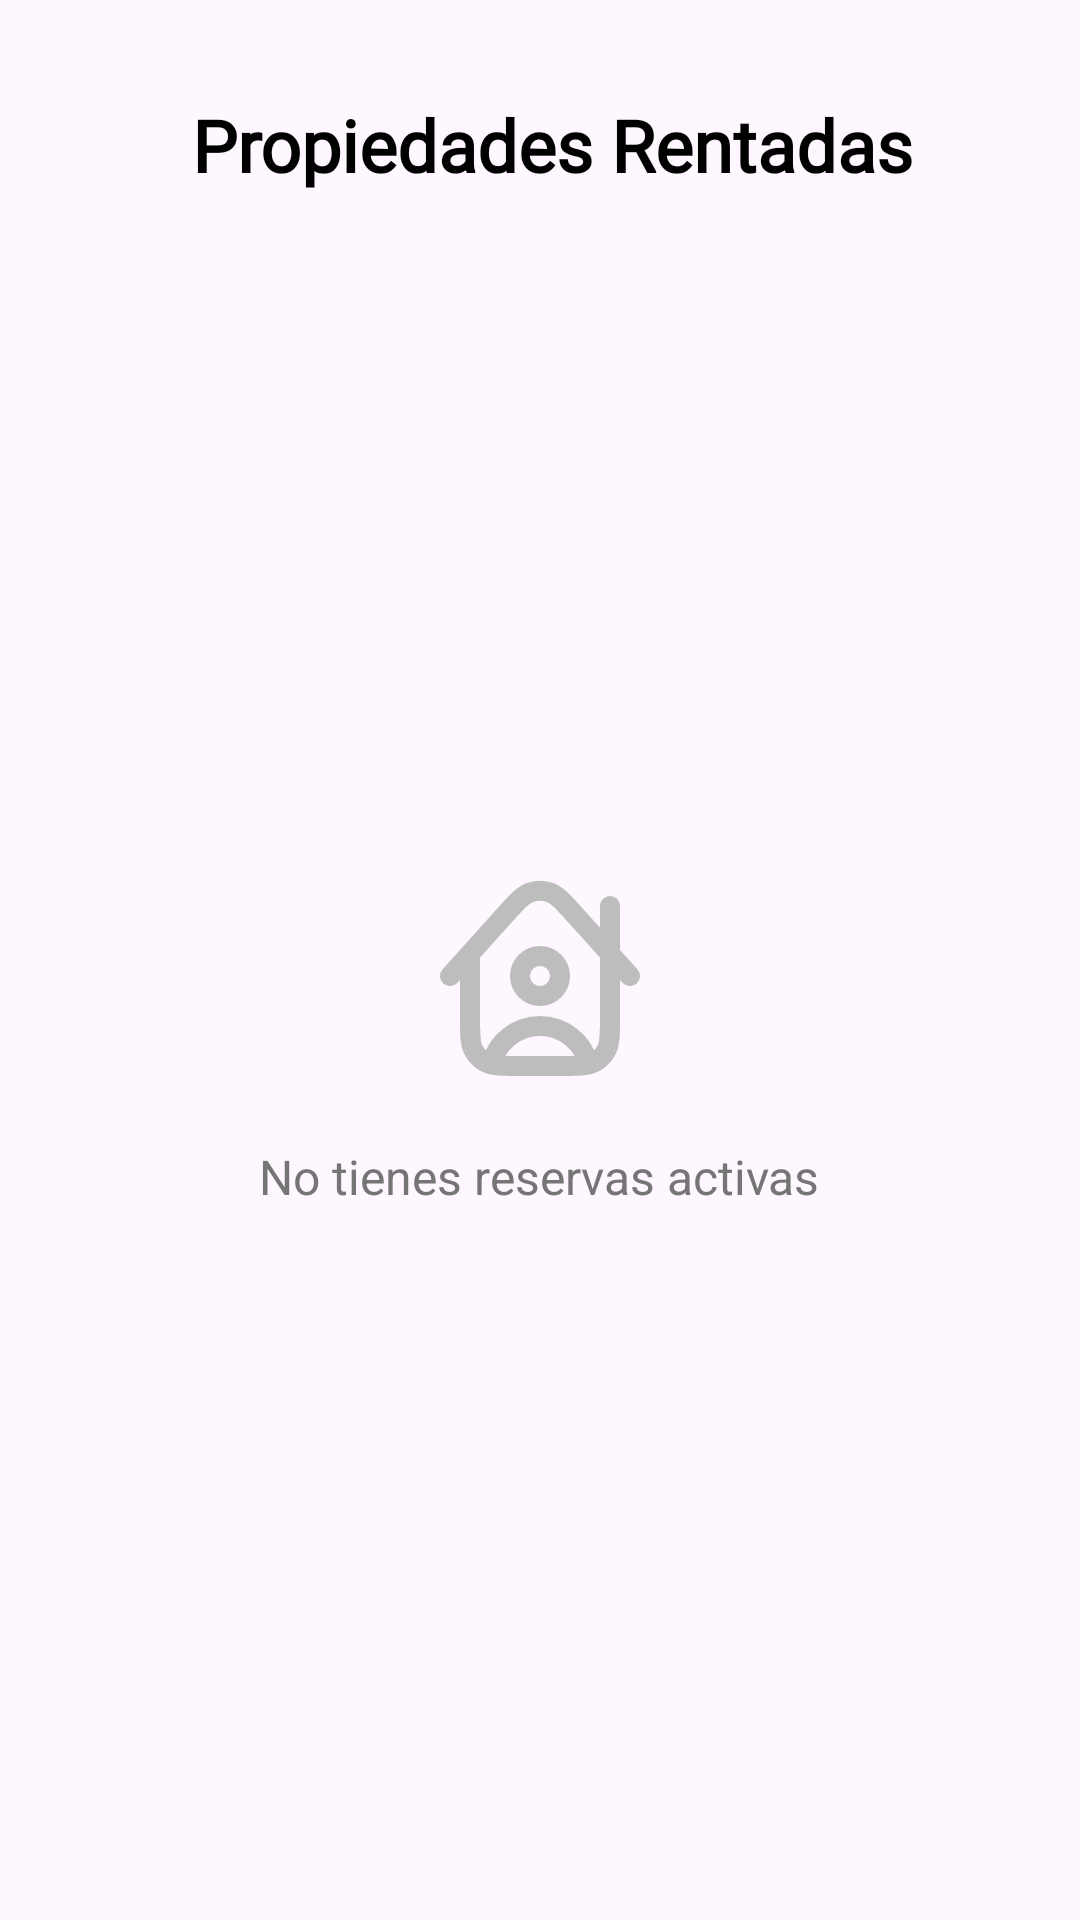

Icon click points for this 1080*1920 phone screenshot, format (x=x, y=y):
house user: (x=540, y=978)
